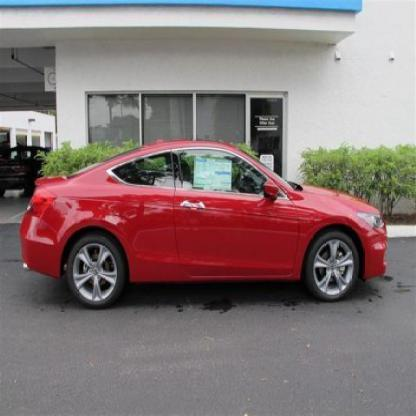Vehicle: (21, 141, 387, 310)
